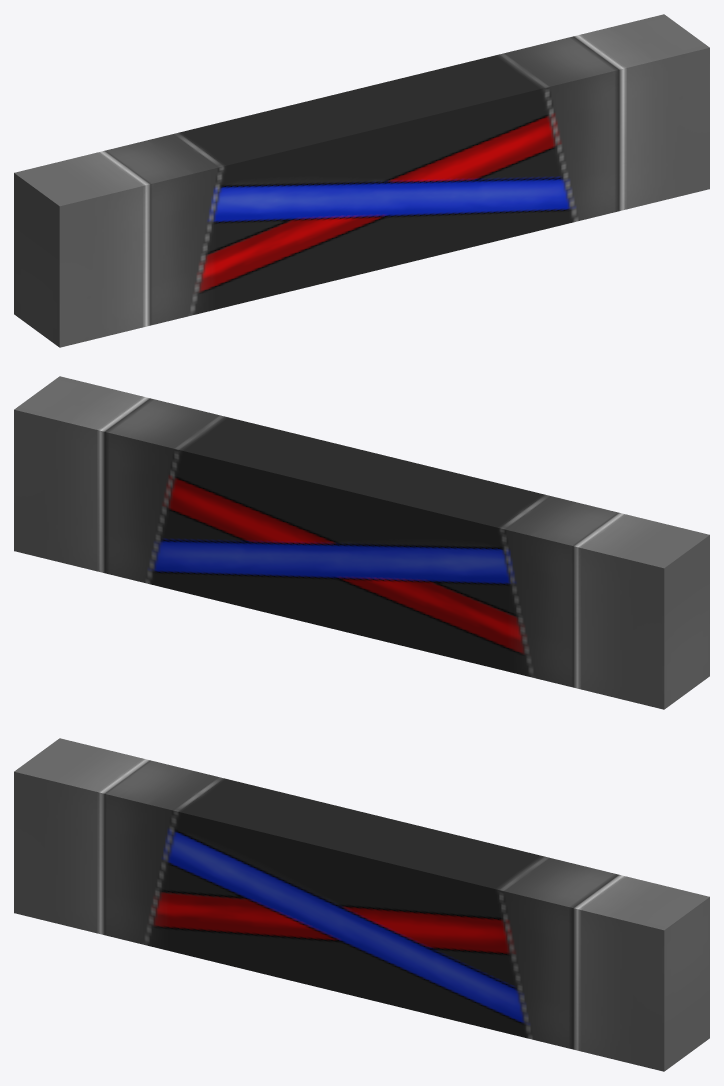
The model's file is space_small_border.gltf.
3 views of the same model, one above another, from view 1: azimuth 30°, elevation 25°; view 2: azimuth 150°, elevation 25°; view 3: azimuth 330°, elevation 25° (orthographic).
Parts seen in each view (by area): view 1: space_border_small_glb; view 2: space_border_small_glb; view 3: space_border_small_glb.
Boxes of the visible parts, x1,y1,x2,y2 form: space_border_small_glb: (14, 14, 709, 347); space_border_small_glb: (14, 376, 709, 709); space_border_small_glb: (14, 738, 709, 1071).
Size of what is drawn, in the model's own units: 2.27 by 0.4726 by 0.2771.
1 material, 1 textured.
